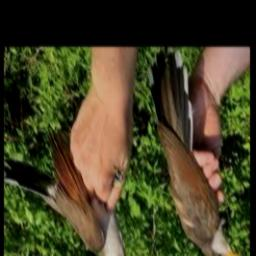Cuckoo: (150, 50, 241, 256), (4, 127, 138, 256)
